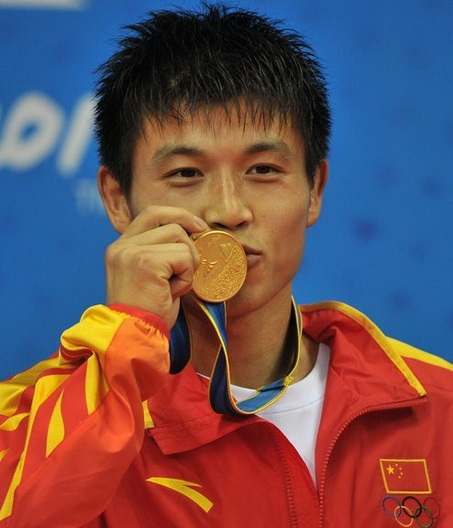face: (135, 74, 297, 314)
